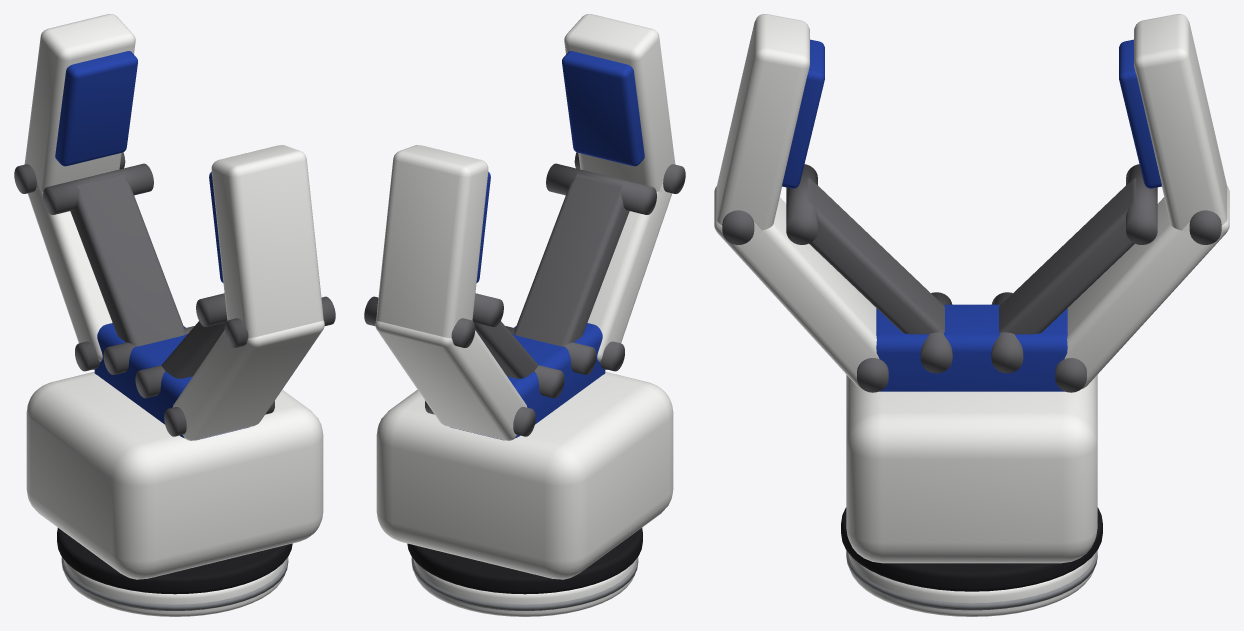
Rendered from KG_Gripper.fbx.
3 renders of one model, left to right at view 1: azimuth 30°, elevation 25°; view 2: azimuth 150°, elevation 25°; view 3: azimuth 270°, elevation 25°, orthographic. The views are drawn at different scales.
Parts seen in each view (by area): view 1: KG_Gripper; view 2: KG_Gripper; view 3: KG_Gripper.
Part boxes in pixels (left/top/right/bottom): KG_Gripper: left=14, top=14, right=335, bottom=616; KG_Gripper: left=364, top=14, right=685, bottom=616; KG_Gripper: left=714, top=14, right=1229, bottom=616.
Bounding box in the file's own units: 0.075 × 0.1667 × 0.1457.
